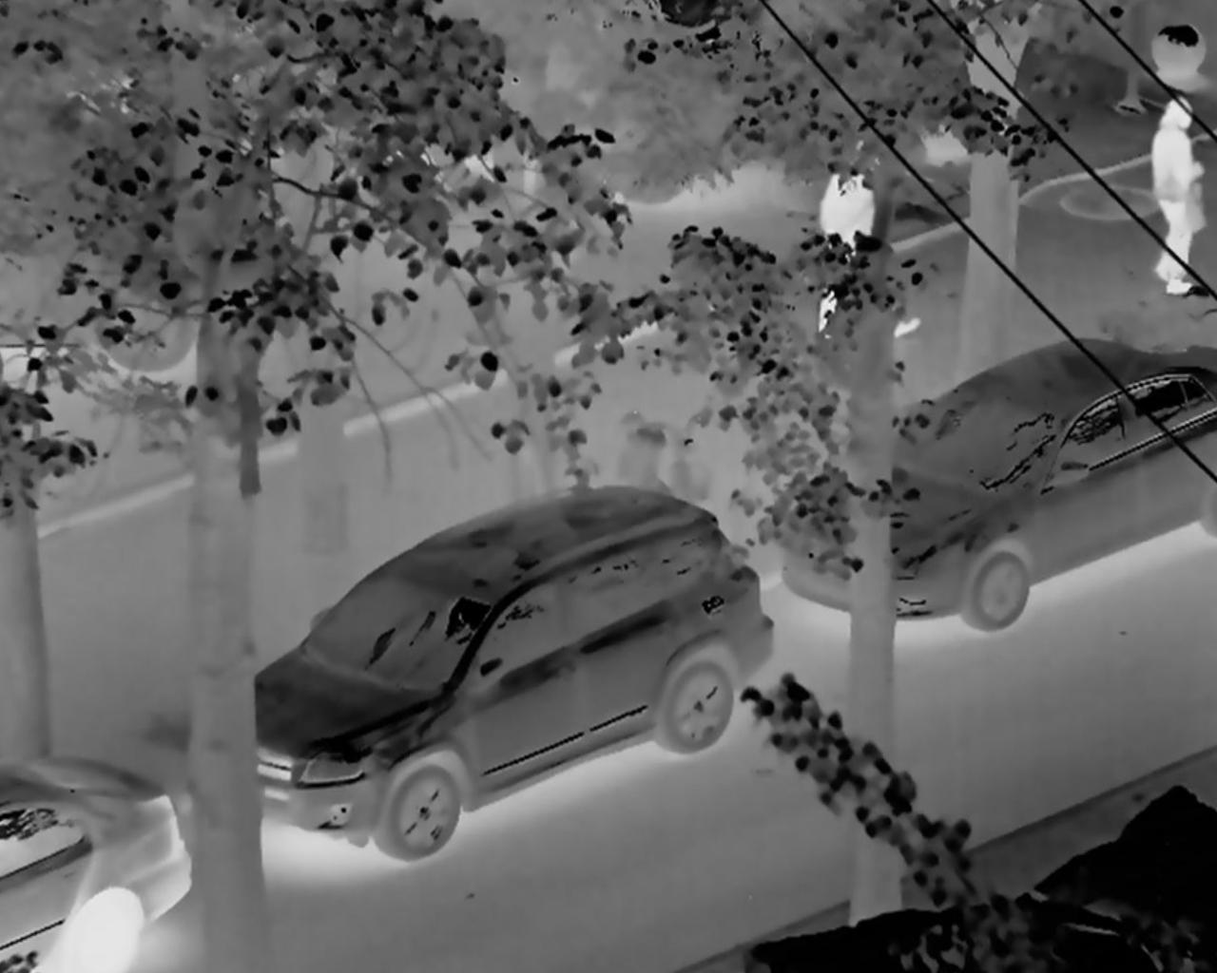person: (807, 106, 908, 363), (1123, 77, 1211, 315)
